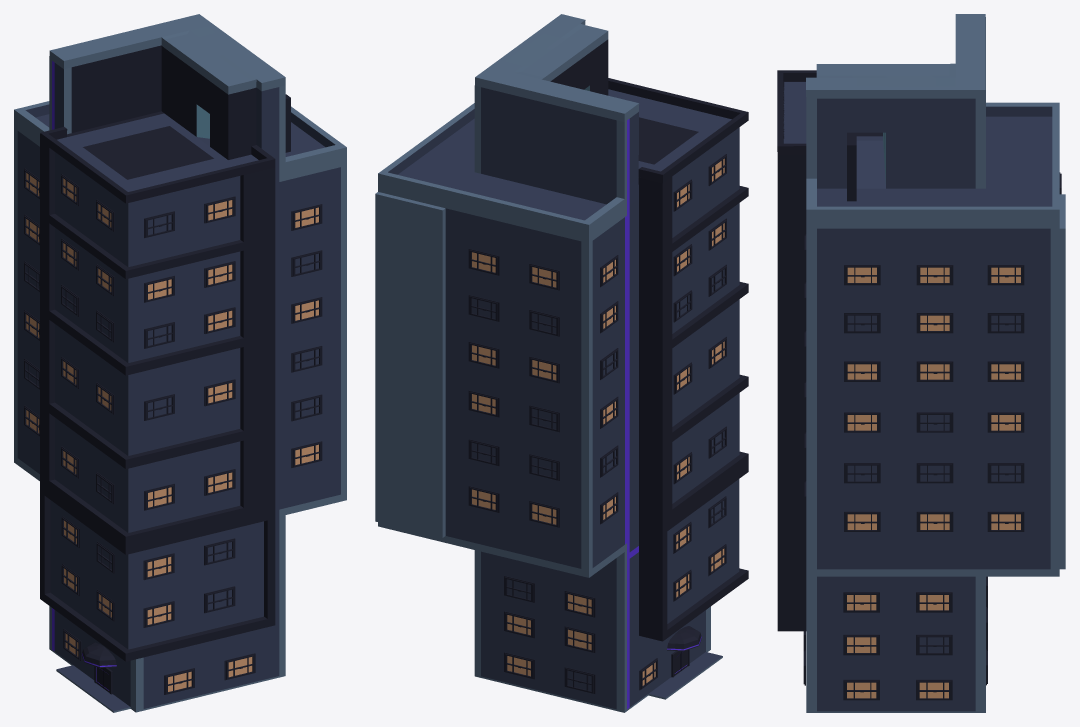
Rendered from Building_Skyscraper04.fbx.
3 renders of one model, left to right at view 1: azimuth 30°, elevation 25°; view 2: azimuth 150°, elevation 25°; view 3: azimuth 270°, elevation 25°, orthographic. The views are drawn at different scales.
Parts seen in each view (by area): view 1: Cube.572, Cylinder.338; view 2: Cube.572, Cylinder.338; view 3: Cube.572.
Boxes of the visible parts, x1,y1,x2,y2 form: Cube.572: [14, 14, 346, 712]; Cylinder.338: [81, 642, 116, 667]; Cube.572: [375, 14, 748, 712]; Cylinder.338: [667, 626, 701, 651]; Cube.572: [777, 14, 1065, 712].
Bounding box in the file's own units: 1743 × 4220 × 1771.
